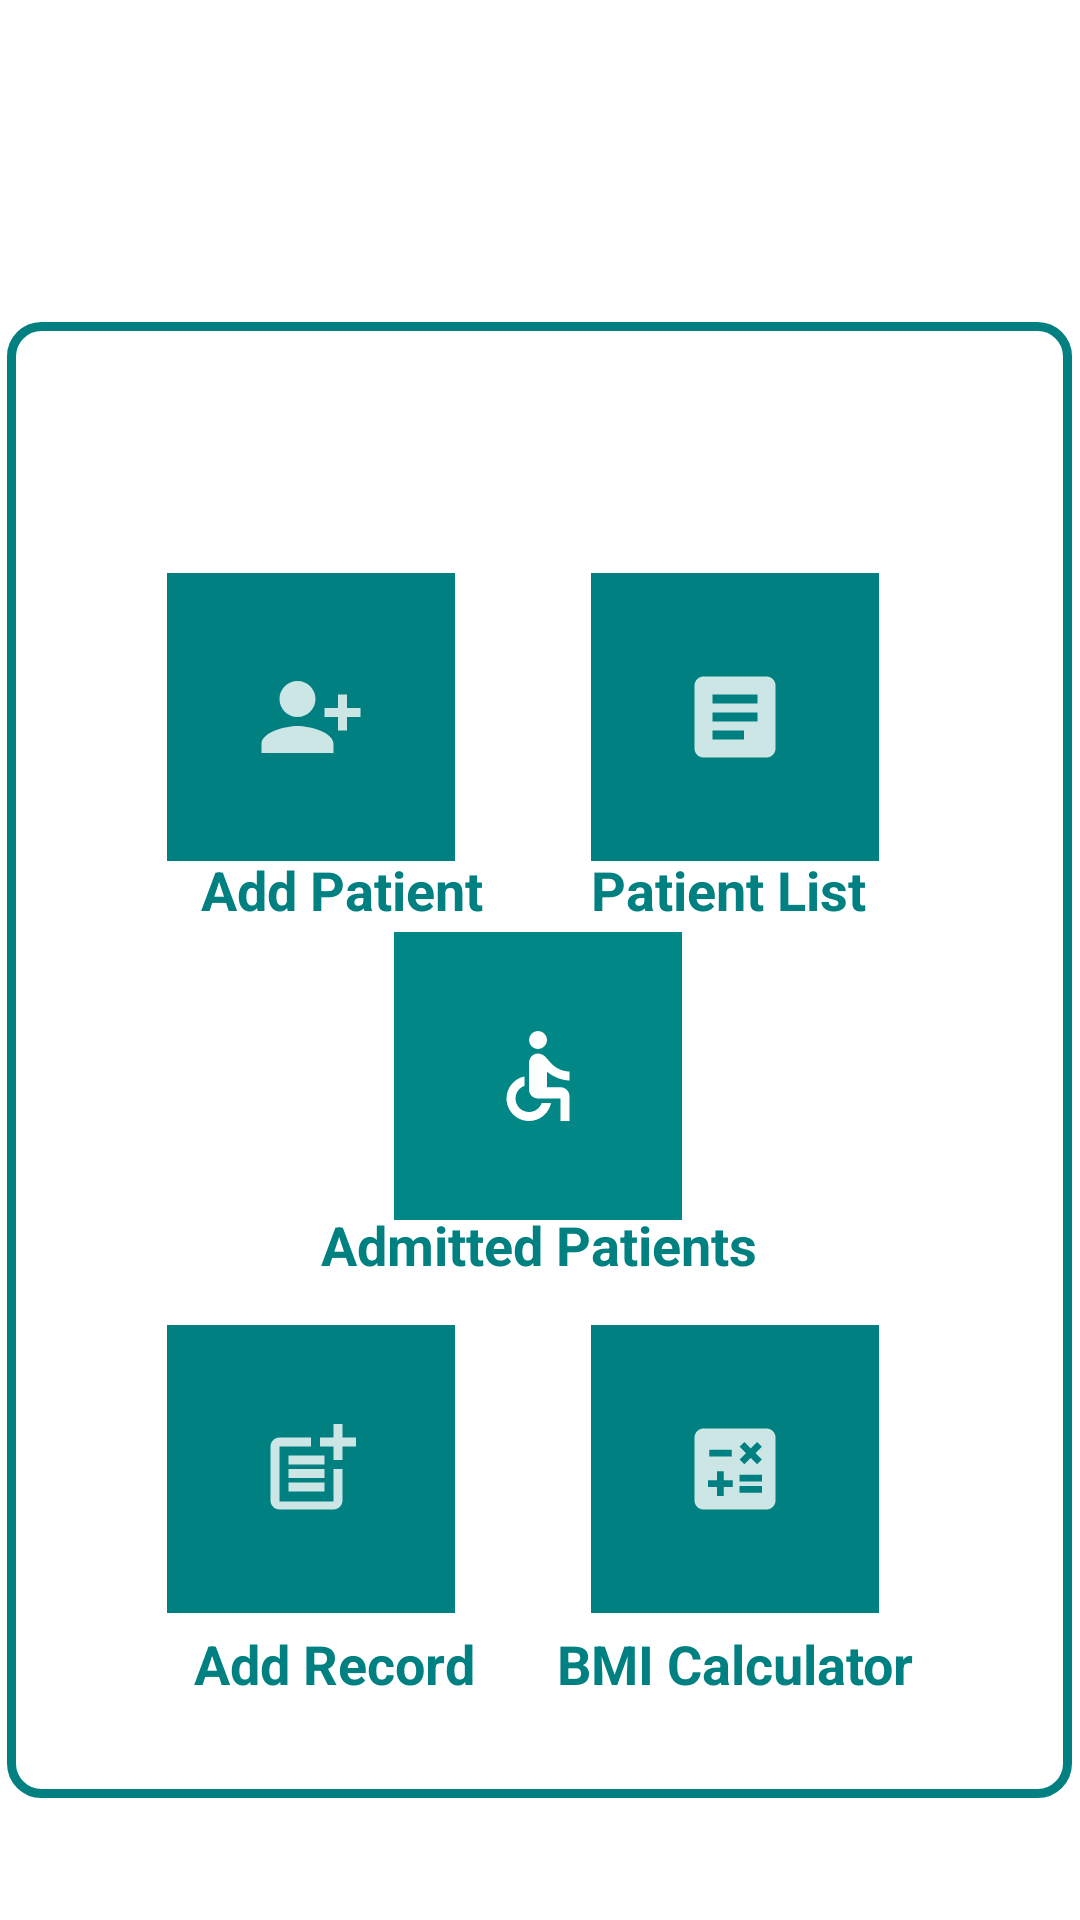

Icon bounding boxes for this 1080w x 1920h phone screenshot, format (left=x1, top=y1, right=x2, bottom=y2):
accessible: (left=394, top=932, right=682, bottom=1220)
pms view record: (left=591, top=573, right=879, bottom=861)
